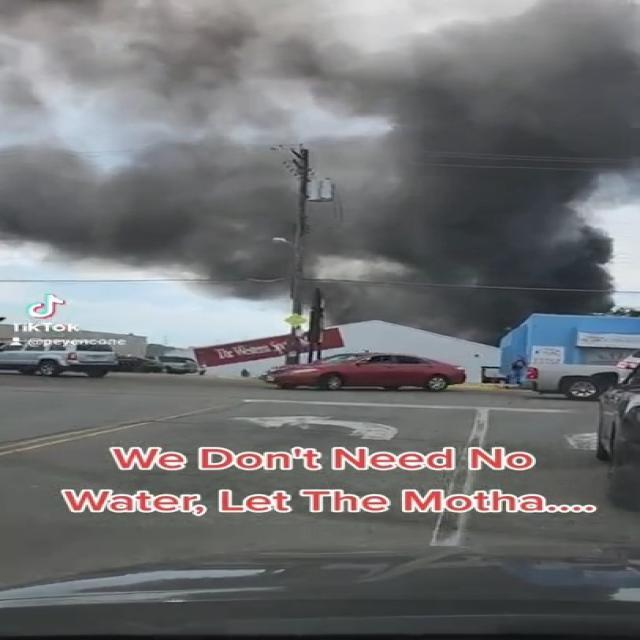Smoke: (348, 11, 631, 291)
